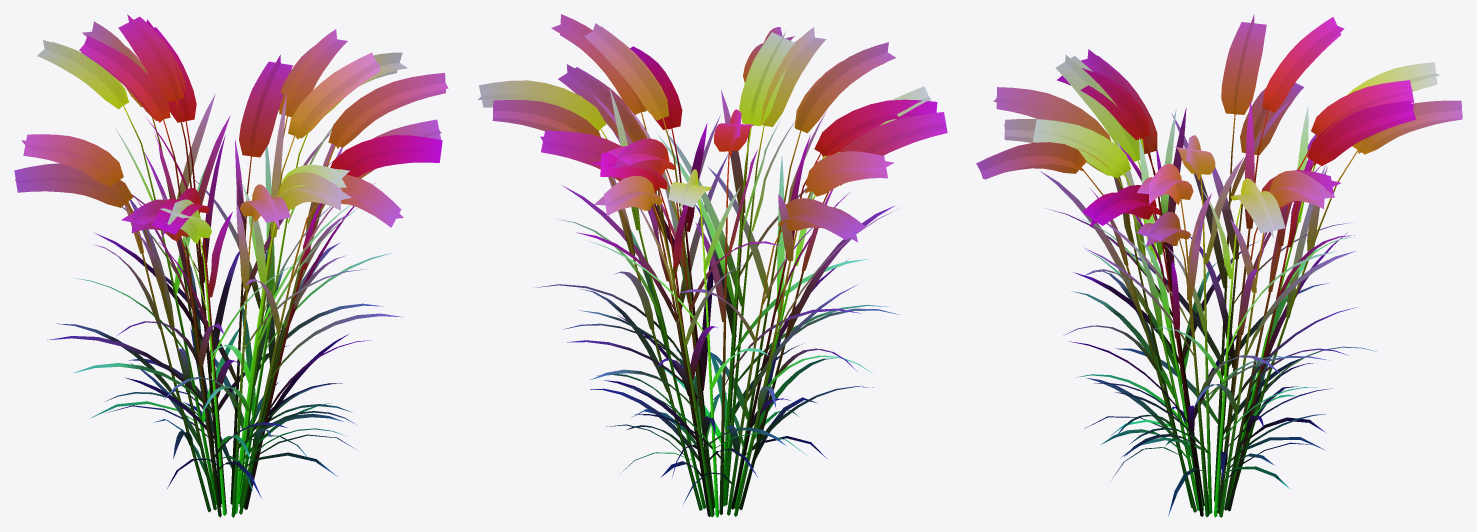
Rendered from Rice_AlmostRipe_A_HD.fbx.
3 renders of one model, left to right at view 1: azimuth 30°, elevation 25°; view 2: azimuth 150°, elevation 25°; view 3: azimuth 270°, elevation 25°, orthographic. The views are drawn at different scales.
Visible parts, largest first — view 1: Rice_AlmostRipe_A_HD_LOD0; view 2: Rice_AlmostRipe_A_HD_LOD0; view 3: Rice_AlmostRipe_A_HD_LOD0.
Boxes of the visible parts, x1,y1,x2,y2 form: Rice_AlmostRipe_A_HD_LOD0: [14, 14, 448, 517]; Rice_AlmostRipe_A_HD_LOD0: [478, 14, 947, 517]; Rice_AlmostRipe_A_HD_LOD0: [976, 14, 1462, 517].
Size of what is drawn, in the model's own units: 1.01 by 1.11 by 1.08.
